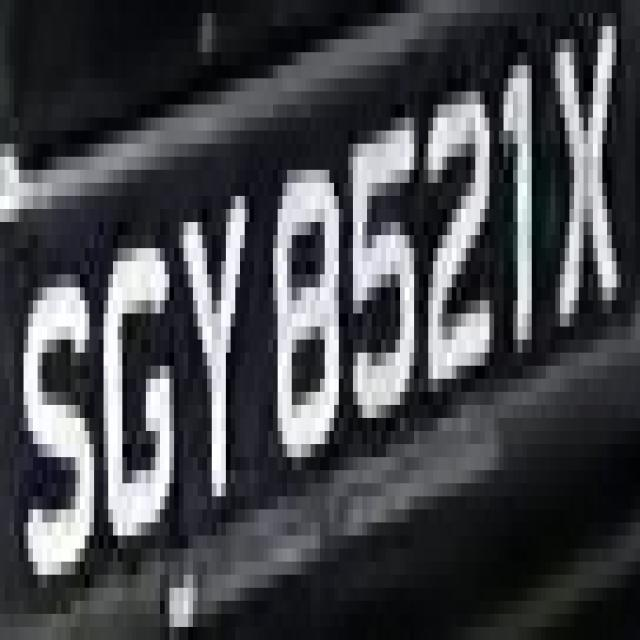1: (494, 65, 546, 405)
2: (409, 79, 499, 458)
5: (348, 66, 433, 470)
8: (259, 170, 343, 483)
G: (90, 209, 184, 588)
S: (19, 248, 103, 601)
X: (550, 0, 630, 366)
Y: (170, 157, 264, 536)
